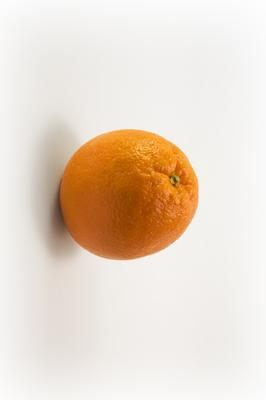orange: (0, 0, 266, 400)
